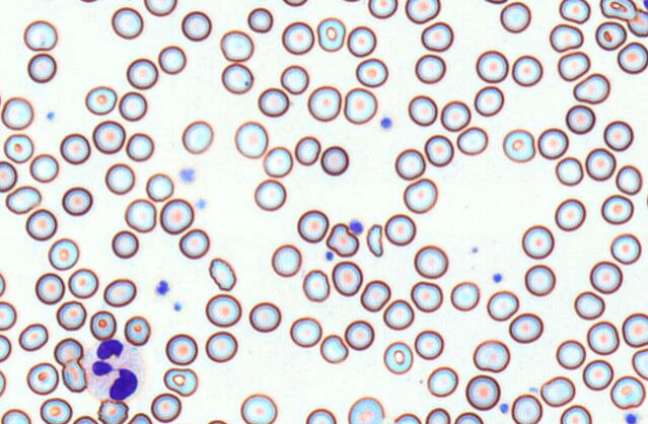GRAN: (86, 340, 148, 404)
PLT: (178, 166, 195, 186), (349, 217, 366, 236), (154, 280, 170, 296), (378, 115, 393, 132), (43, 109, 58, 122), (624, 412, 638, 424), (172, 300, 184, 313), (499, 402, 511, 414), (492, 271, 502, 284), (324, 251, 335, 262)
RBC: (234, 120, 268, 158), (465, 374, 500, 410), (159, 198, 194, 234), (343, 87, 377, 124), (472, 339, 510, 372), (205, 293, 241, 327), (403, 177, 437, 213), (307, 85, 341, 121), (610, 375, 645, 409), (413, 244, 448, 278), (573, 72, 610, 104), (586, 320, 619, 355), (521, 224, 554, 259), (0, 96, 33, 130), (589, 260, 622, 294), (92, 119, 125, 153), (475, 49, 508, 83), (502, 128, 535, 162), (540, 375, 575, 407), (331, 260, 362, 296), (240, 393, 277, 423), (26, 362, 59, 395), (253, 178, 286, 211), (281, 21, 314, 54), (124, 198, 156, 232), (219, 29, 253, 61), (23, 19, 57, 51), (297, 209, 329, 243), (181, 120, 213, 154), (508, 312, 543, 343), (47, 237, 79, 270), (410, 280, 443, 312), (111, 6, 143, 39), (554, 198, 586, 231), (382, 340, 413, 374), (585, 147, 616, 181), (25, 208, 57, 240), (382, 298, 414, 330), (165, 333, 197, 365), (221, 62, 253, 94), (499, 1, 531, 33), (205, 330, 237, 362), (126, 57, 158, 89), (384, 213, 416, 245), (360, 279, 391, 312), (557, 50, 590, 81), (486, 290, 519, 321), (289, 316, 322, 347), (248, 301, 281, 332), (524, 263, 555, 296), (271, 243, 301, 277), (163, 367, 198, 396), (347, 396, 384, 423), (34, 272, 65, 304), (426, 366, 458, 397), (104, 162, 135, 194), (262, 145, 293, 177), (610, 232, 641, 264), (394, 148, 425, 180), (537, 127, 568, 159), (511, 54, 542, 86), (617, 41, 647, 74), (420, 21, 453, 51), (355, 57, 388, 87), (601, 194, 634, 224), (84, 85, 117, 115), (316, 17, 345, 51), (582, 359, 613, 390), (178, 228, 209, 259), (59, 133, 90, 164), (67, 267, 98, 298), (473, 85, 504, 116), (440, 100, 471, 131), (573, 290, 605, 320), (257, 87, 289, 117), (594, 20, 626, 50), (346, 25, 376, 57), (407, 94, 437, 126), (103, 278, 136, 307), (302, 268, 330, 302), (511, 393, 542, 423), (555, 339, 586, 369), (150, 392, 181, 422), (344, 319, 374, 350), (61, 186, 92, 216), (181, 10, 211, 41), (414, 53, 445, 83), (603, 120, 633, 151), (450, 280, 480, 311), (424, 134, 453, 166), (456, 126, 488, 155), (208, 257, 236, 290), (3, 133, 33, 163), (56, 300, 86, 330), (565, 104, 595, 134), (27, 52, 56, 83), (118, 90, 147, 121), (622, 312, 647, 347), (53, 337, 83, 366), (29, 153, 59, 182), (18, 322, 48, 351), (280, 64, 309, 94), (414, 329, 443, 359), (39, 397, 72, 423), (145, 172, 174, 201), (157, 45, 186, 74), (125, 132, 154, 161), (320, 145, 348, 175), (555, 156, 583, 186), (123, 315, 150, 346), (615, 164, 642, 195), (404, 0, 440, 23), (89, 310, 116, 340), (111, 229, 138, 258), (294, 135, 320, 165), (97, 399, 128, 423), (599, 0, 636, 20), (558, 0, 590, 23), (247, 7, 273, 33), (559, 404, 591, 423), (627, 8, 647, 37), (0, 160, 17, 192), (143, 0, 177, 16), (367, 0, 397, 18), (631, 348, 647, 380), (305, 407, 336, 423), (0, 300, 16, 330), (0, 408, 31, 423), (425, 407, 450, 423), (454, 411, 483, 423), (0, 334, 11, 362), (393, 412, 421, 423), (127, 412, 152, 423), (72, 415, 98, 423), (0, 369, 6, 396), (282, 0, 307, 6), (0, 272, 5, 296), (483, 0, 507, 4), (206, 419, 227, 423), (75, 0, 102, 3), (338, 0, 362, 2), (31, 0, 59, 1)
Schistocyte: (326, 224, 360, 258), (549, 23, 584, 53), (5, 187, 42, 214), (320, 334, 350, 366), (61, 359, 88, 394), (365, 223, 385, 259)
